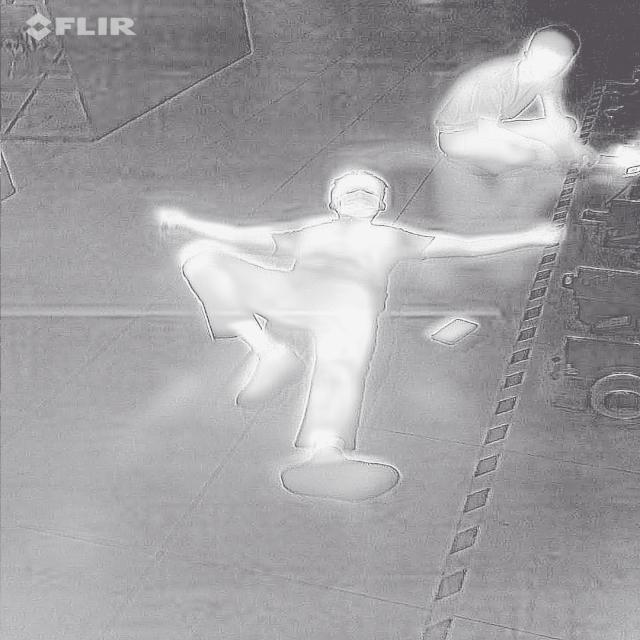Victim: (139, 160, 566, 504), (420, 13, 604, 176)
